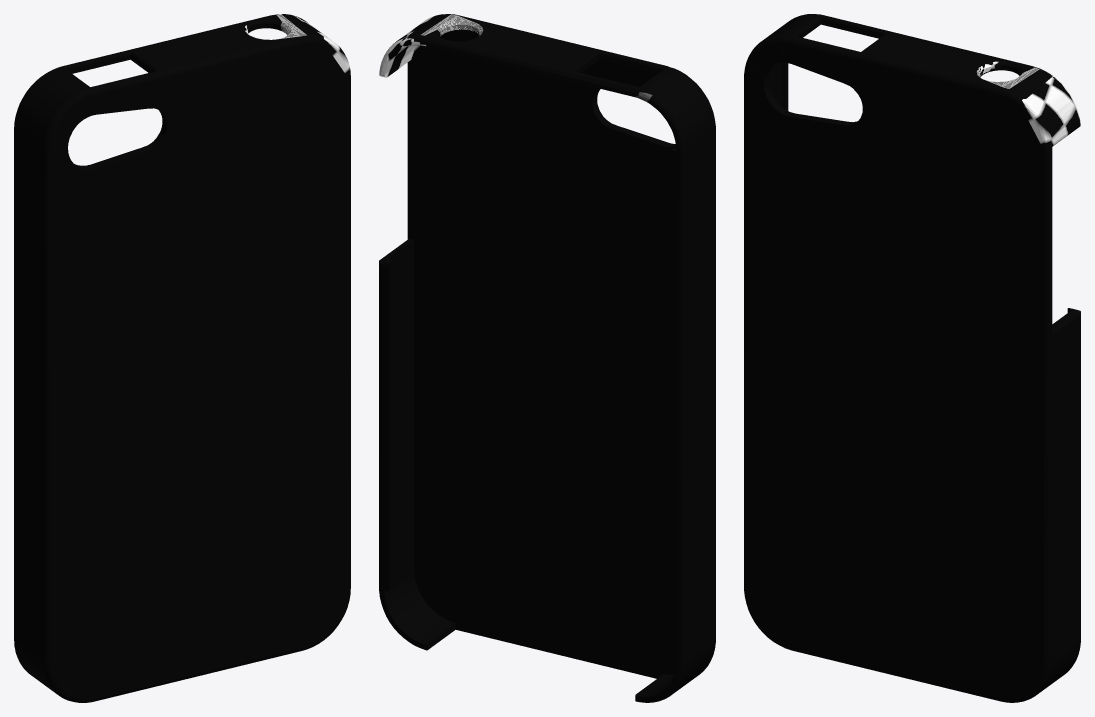
File: iphone-3.obj
3 views of the same model, side by side, from view 1: azimuth 30°, elevation 25°; view 2: azimuth 150°, elevation 25°; view 3: azimuth 330°, elevation 25° (orthographic).
Size of the model in its own units: 62 by 118 by 12.
